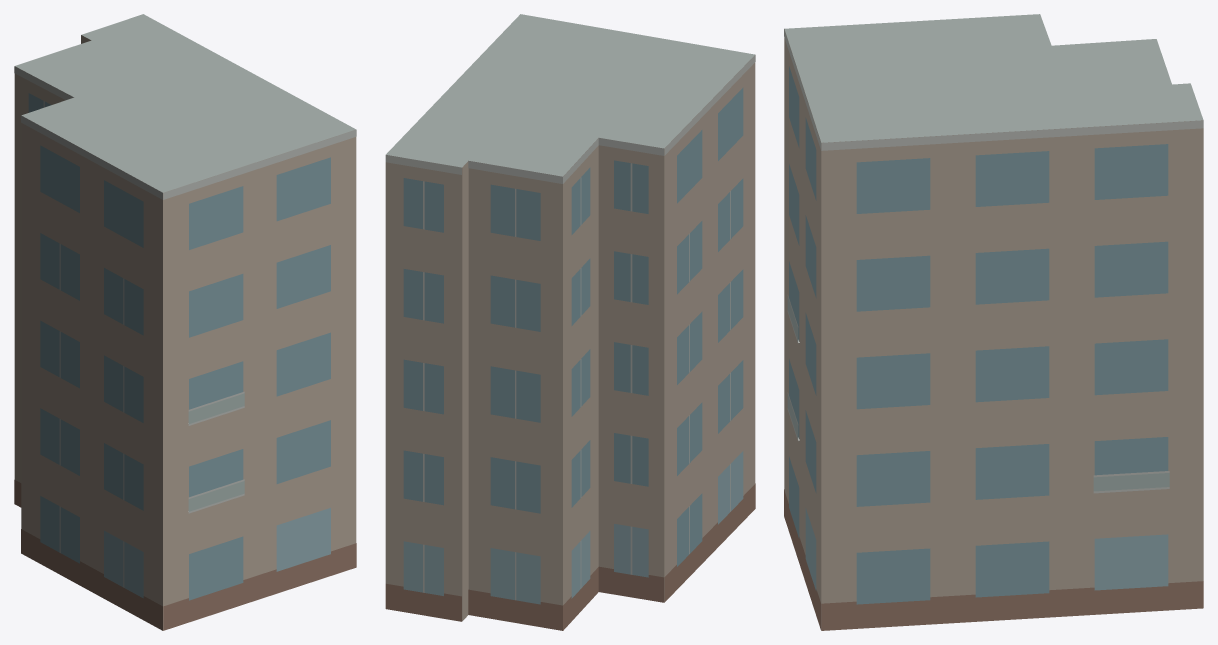
File: survey-upis-32739153.glb
The picture shows the model from 3 angles, left to right: view 1: azimuth 30°, elevation 25°; view 2: azimuth 150°, elevation 25°; view 3: azimuth 270°, elevation 25°; orthographic projection. The views are drawn at different scales.
Visible parts, largest first — view 1: survey-upis-32739153.tmp; view 2: survey-upis-32739153.tmp; view 3: survey-upis-32739153.tmp.
Part boxes in pixels (x1,y1,x2,y2): survey-upis-32739153.tmp: [14, 14, 356, 630]; survey-upis-32739153.tmp: [385, 14, 755, 630]; survey-upis-32739153.tmp: [784, 14, 1203, 630].
Size of the model in its own units: 8.39 by 14.8 by 11.54.
